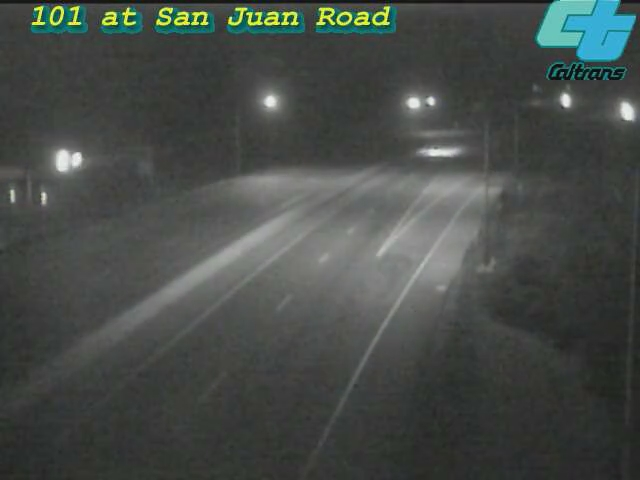vehicle: (415, 126, 465, 176), (600, 85, 640, 135)
